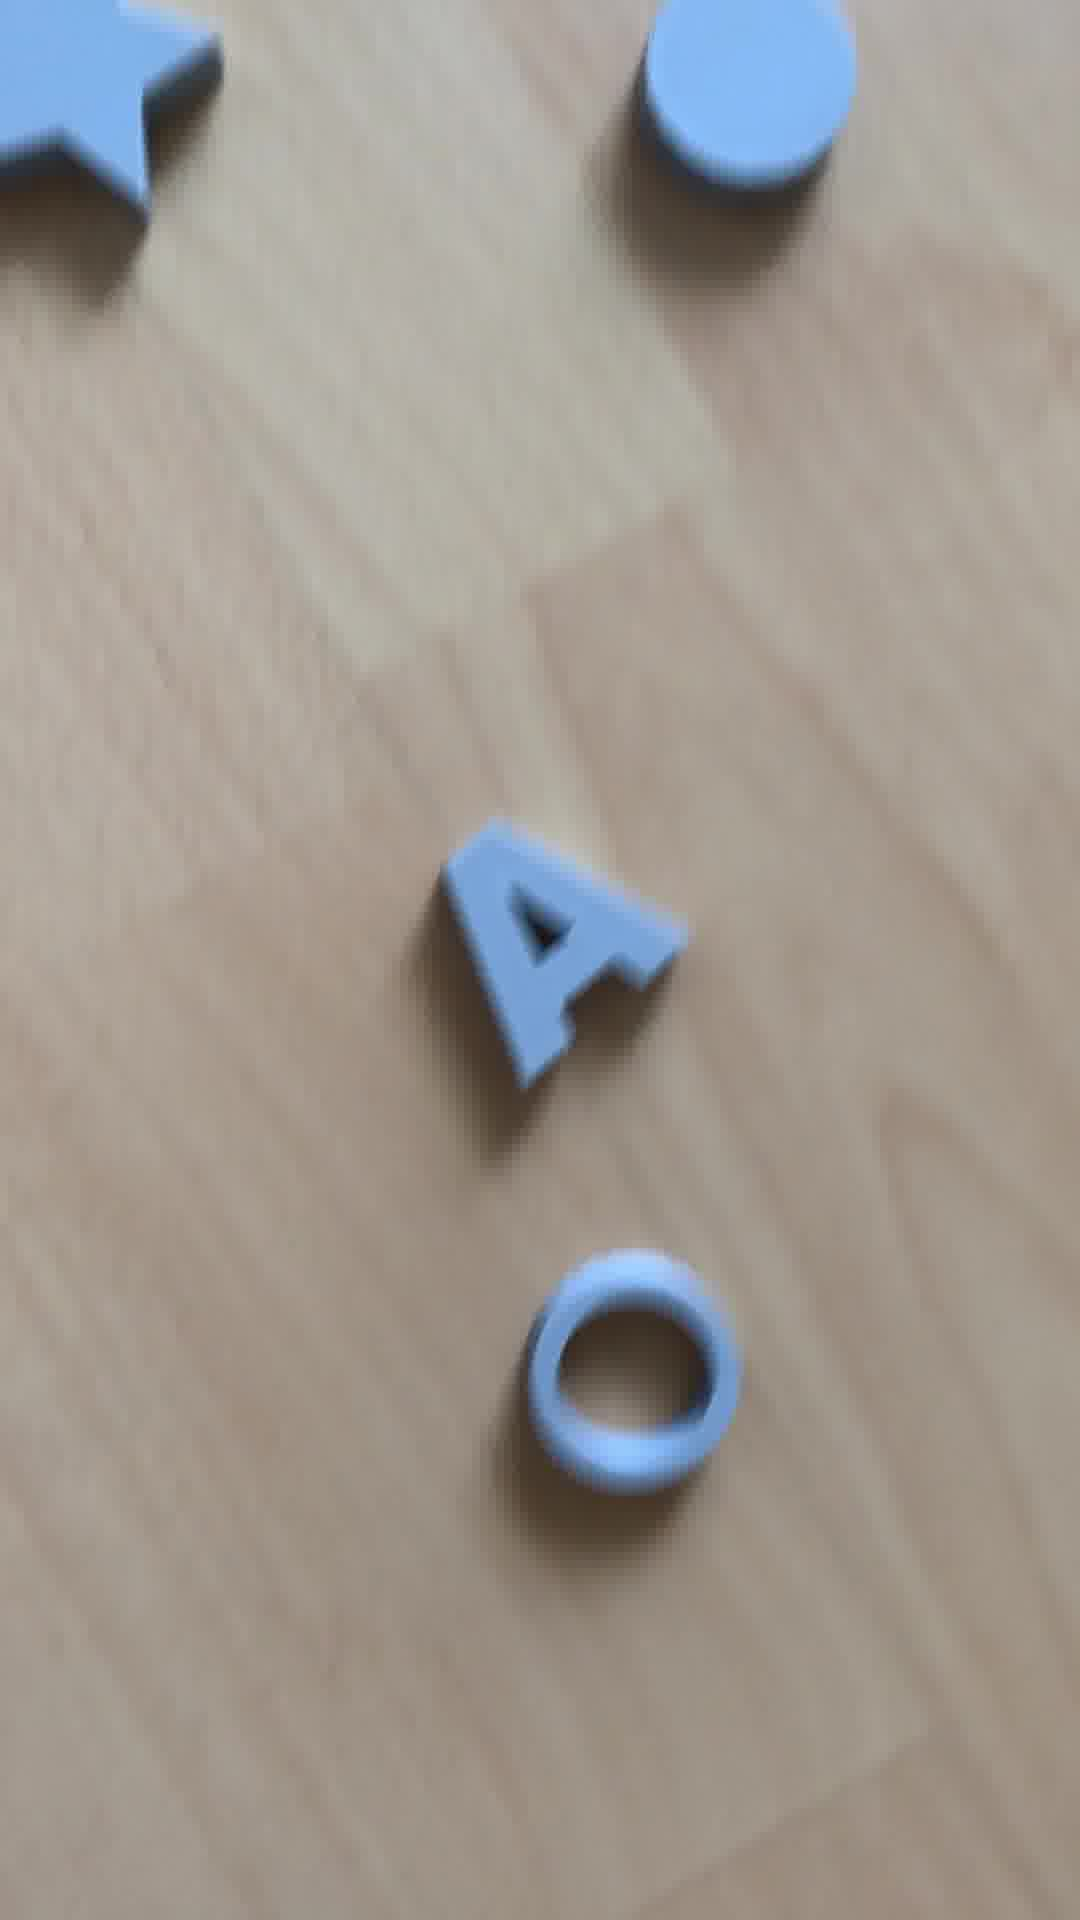Gray A-letter: (448, 832, 686, 1079)
Gray circle: (629, 1, 882, 208)
Gray ring: (520, 1238, 764, 1509)
Gray star: (1, 1, 214, 244)
